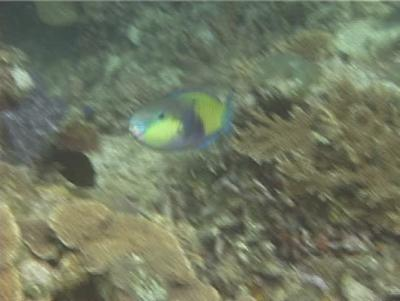Scaridae -Parrotfishes-: (126, 85, 242, 159)
